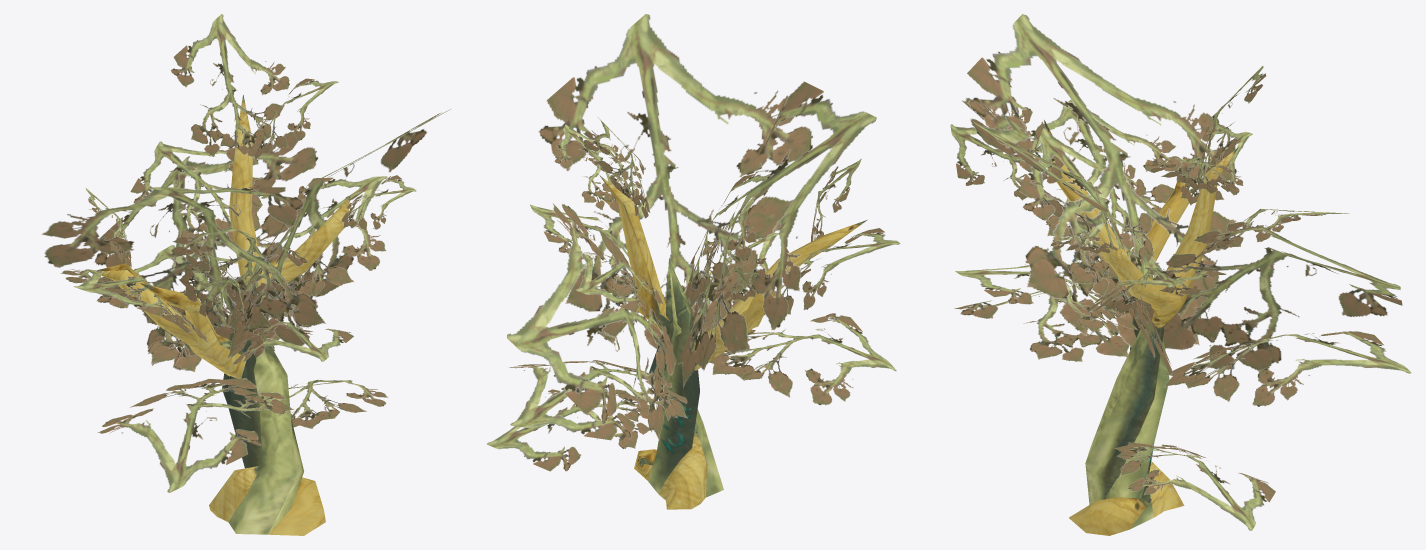
3 renders of one model, left to right at view 1: azimuth 30°, elevation 25°; view 2: azimuth 150°, elevation 25°; view 3: azimuth 270°, elevation 25°, orthographic. The views are drawn at different scales.
Visible parts, largest first — view 1: alpha, Solid; view 2: alpha, Solid; view 3: alpha, Solid.
Boxes of the visible parts, bbox=[...] form: alpha: bbox=[41, 14, 450, 492]; Solid: bbox=[97, 95, 350, 535]; alpha: bbox=[486, 14, 900, 471]; Solid: bbox=[599, 175, 867, 509]; alpha: bbox=[950, 14, 1411, 530]; Solid: bbox=[1044, 120, 1238, 535].
Size of the model in its own units: 390 by 450 by 417.
Materials: 2 (2 with a texture image).
